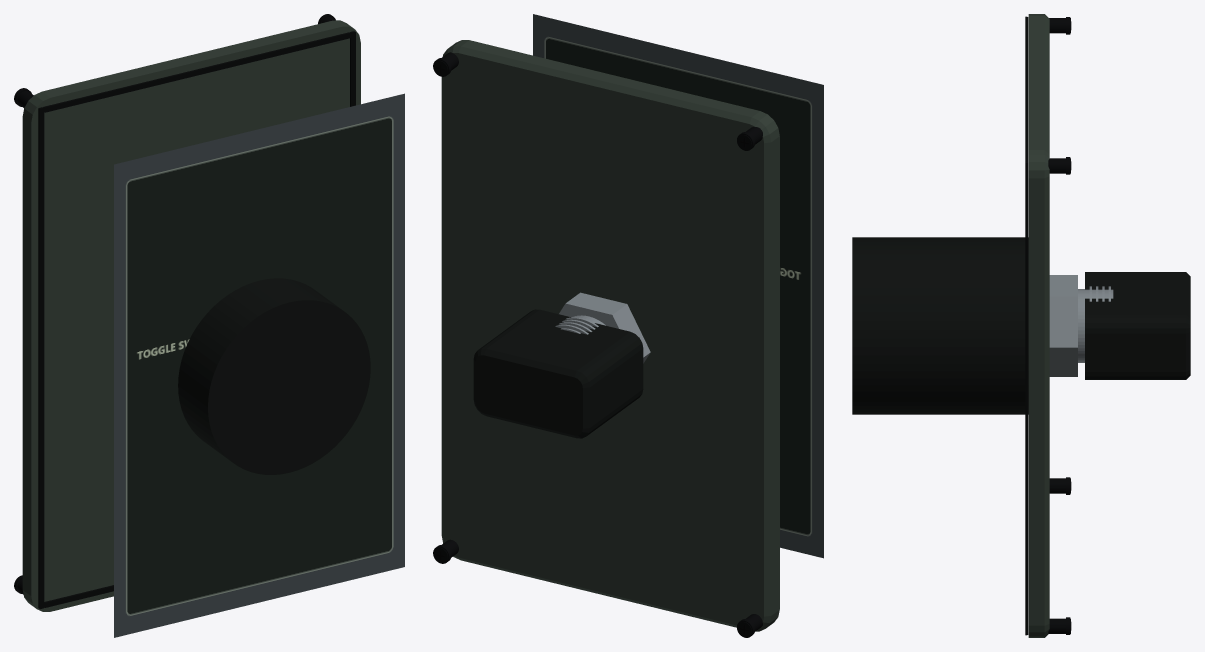
The model's file is MFDStudio.obj.
3 renders of one model, left to right at view 1: azimuth 30°, elevation 25°; view 2: azimuth 150°, elevation 25°; view 3: azimuth 270°, elevation 25°, orthographic. The views are drawn at different scales.
Visible parts, largest first — view 1: MFDStudioScreen, MFDStudioBody, MFDStudioMount; view 2: MFDStudioBody, MFDStudioScreen, MFDStudioActuator, MFDStudioMount, MFDStudioScrews; view 3: MFDStudioMount, MFDStudioBody, MFDStudioActuator, MFDStudioScrews.
Part boxes in pixels (<box>): MFDStudioScreen: <box>114,93,404,637</box>; MFDStudioBody: <box>22,20,360,611</box>; MFDStudioMount: <box>178,278,370,474</box>; MFDStudioBody: <box>441,40,779,631</box>; MFDStudioScreen: <box>533,14,823,558</box>; MFDStudioActuator: <box>473,309,643,438</box>; MFDStudioMount: <box>555,292,650,363</box>; MFDStudioScrews: <box>433,52,762,637</box>; MFDStudioMount: <box>852,237,1113,414</box>; MFDStudioBody: <box>1025,14,1049,637</box>; MFDStudioActuator: <box>1085,272,1190,379</box>; MFDStudioScrews: <box>1048,17,1071,634</box>.
Bounding box in the file's own units: 0.051 × 0.076 × 0.048.
7 materials, 1 textured.
